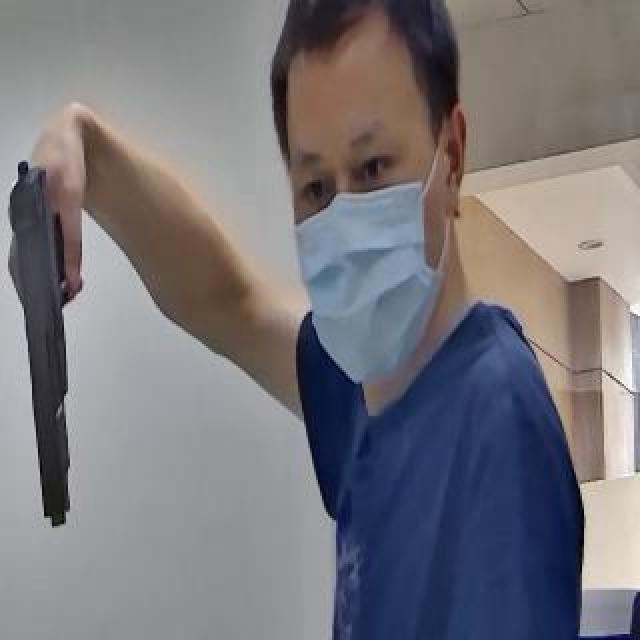Guns: (0, 132, 138, 558)
